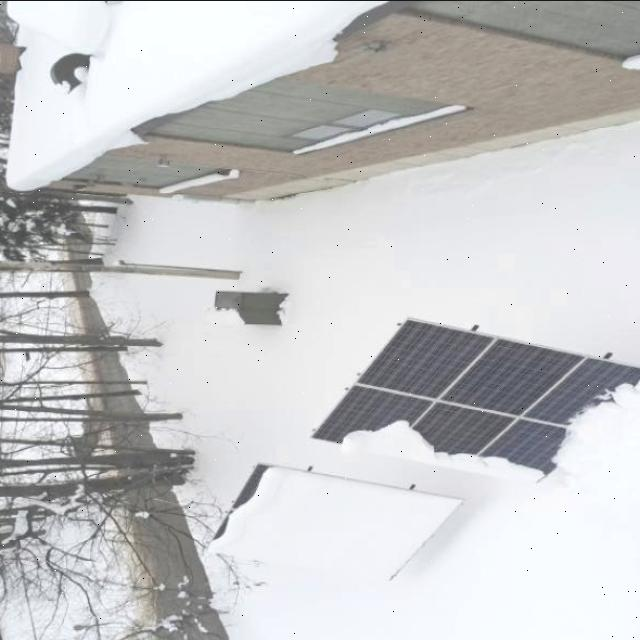Anomaly Solar Panel: (313, 318, 640, 489), (206, 462, 463, 584), (3, 0, 105, 49)
Snow: (207, 463, 464, 582), (550, 372, 640, 470), (4, 0, 104, 48), (392, 423, 479, 470), (465, 452, 545, 487), (341, 416, 413, 453)
